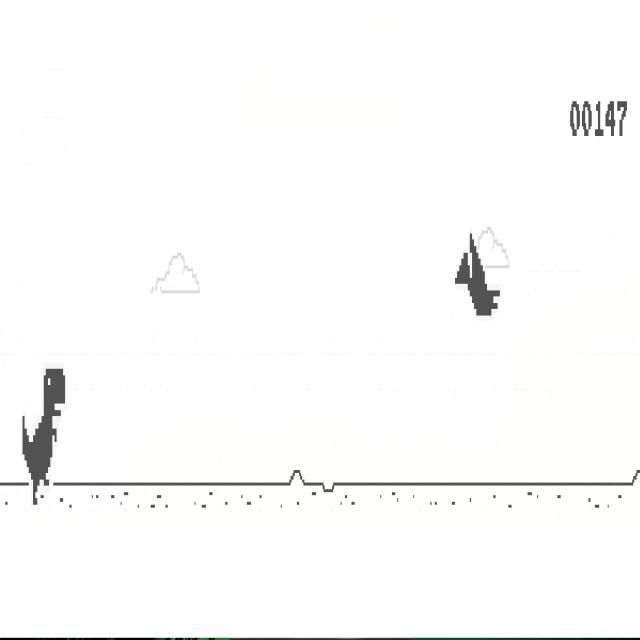dino: (21, 366, 66, 507)
ptero: (453, 231, 501, 319)
